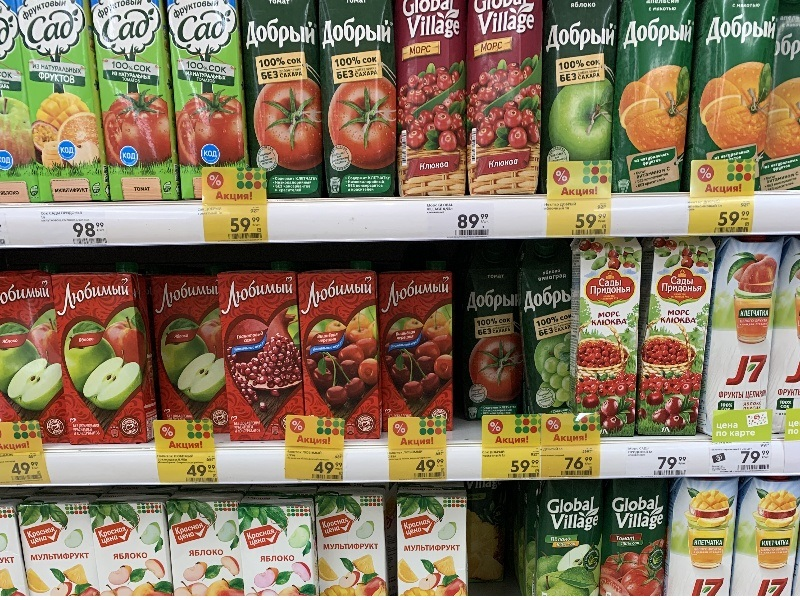juice: (49, 261, 165, 453), (209, 261, 320, 448), (15, 1, 115, 208), (694, 230, 788, 445), (91, 1, 187, 211), (240, 1, 336, 209), (319, 1, 408, 208), (293, 262, 390, 448), (610, 1, 698, 204), (464, 1, 549, 206), (395, 1, 477, 209), (376, 260, 465, 443), (639, 234, 712, 445), (570, 231, 642, 442)
